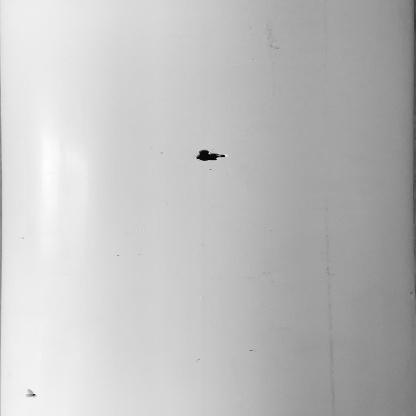kongdong: (192, 144, 237, 168), (19, 385, 46, 404)
